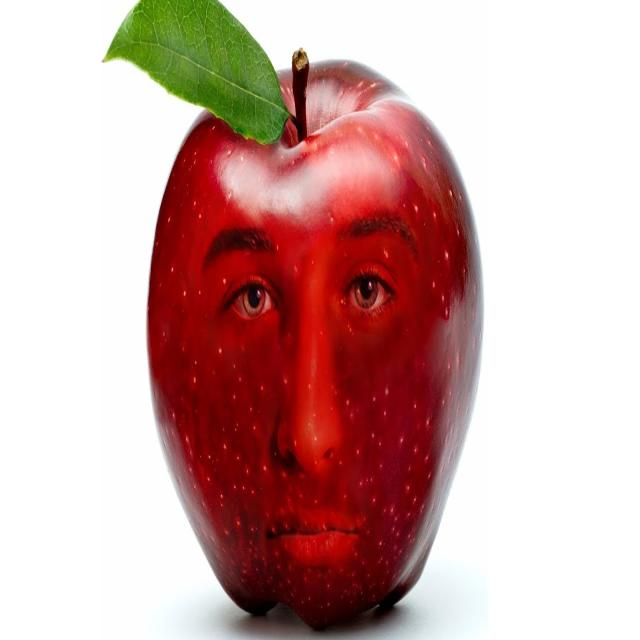apple: (147, 60, 485, 632)
